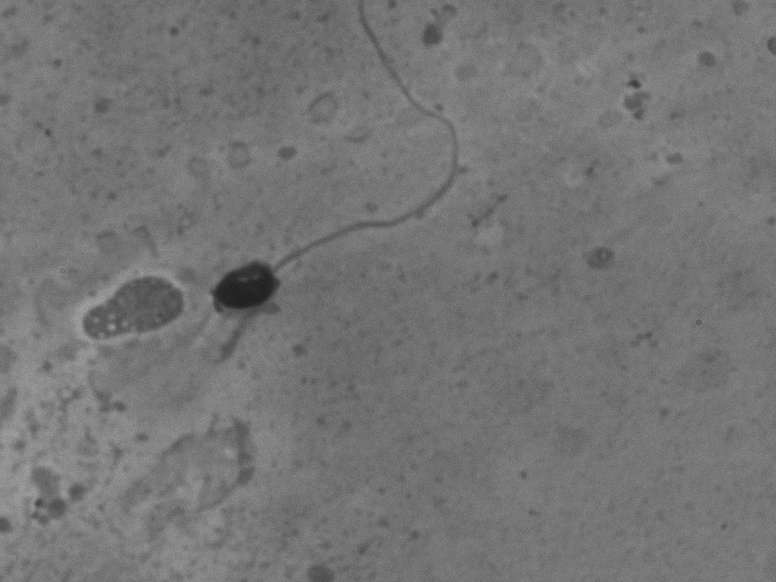Abnormal: (197, 9, 483, 326)
